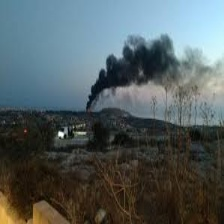smoke: (82, 33, 184, 116)
